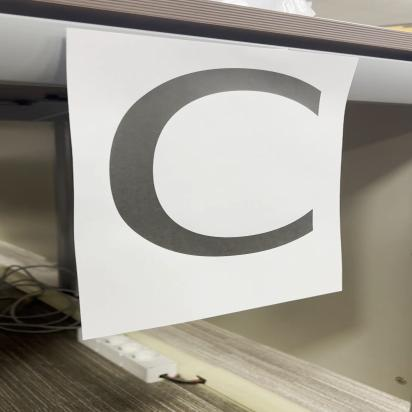seat: (82, 29, 348, 306)
